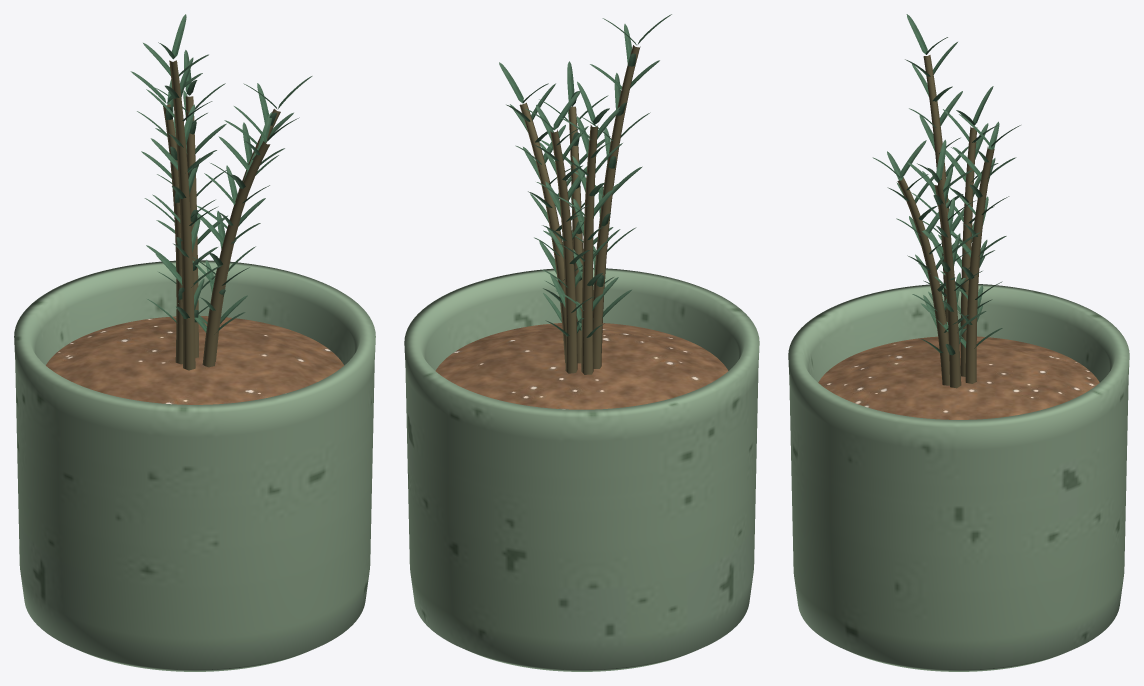
File: rosemary.glb
3 renders of one model, left to right at view 1: azimuth 30°, elevation 25°; view 2: azimuth 150°, elevation 25°; view 3: azimuth 270°, elevation 25°, orthographic. The views are drawn at different scales.
Visible parts, largest first — view 1: piece-0, piece-1, piece-112; view 2: piece-0, piece-1, piece-112; view 3: piece-0, piece-1, piece-112.
Boxes of the visible parts, bbox=[...] form: piece-0: bbox=[14, 260, 375, 671]; piece-1: bbox=[46, 316, 343, 404]; piece-112: bbox=[163, 60, 280, 370]; piece-0: bbox=[404, 267, 759, 671]; piece-1: bbox=[435, 323, 728, 409]; piece-112: bbox=[519, 45, 640, 374]; piece-0: bbox=[788, 284, 1129, 671]; piece-1: bbox=[818, 336, 1099, 419]; piece-112: bbox=[897, 55, 994, 388].
Size of the model in its own units: 0.161 by 0.2942 by 0.161.
Materials: 4 (3 with a texture image).
